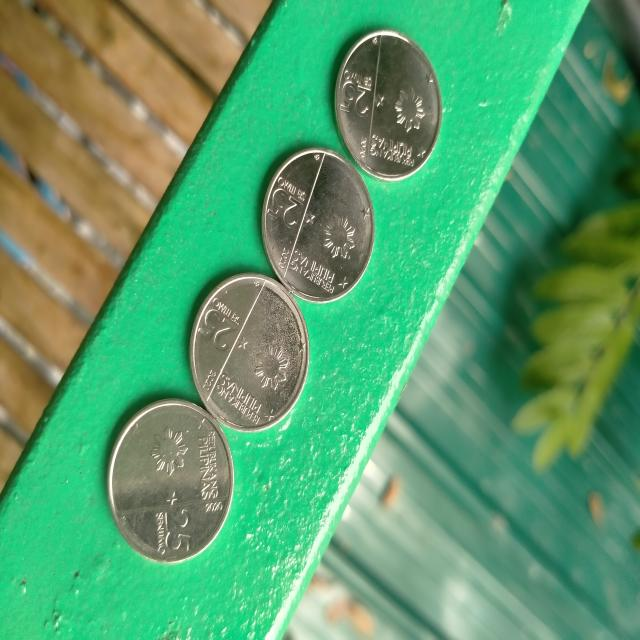25Cent_New_Front: (194, 297, 293, 419), (140, 413, 223, 552), (270, 168, 360, 296)
